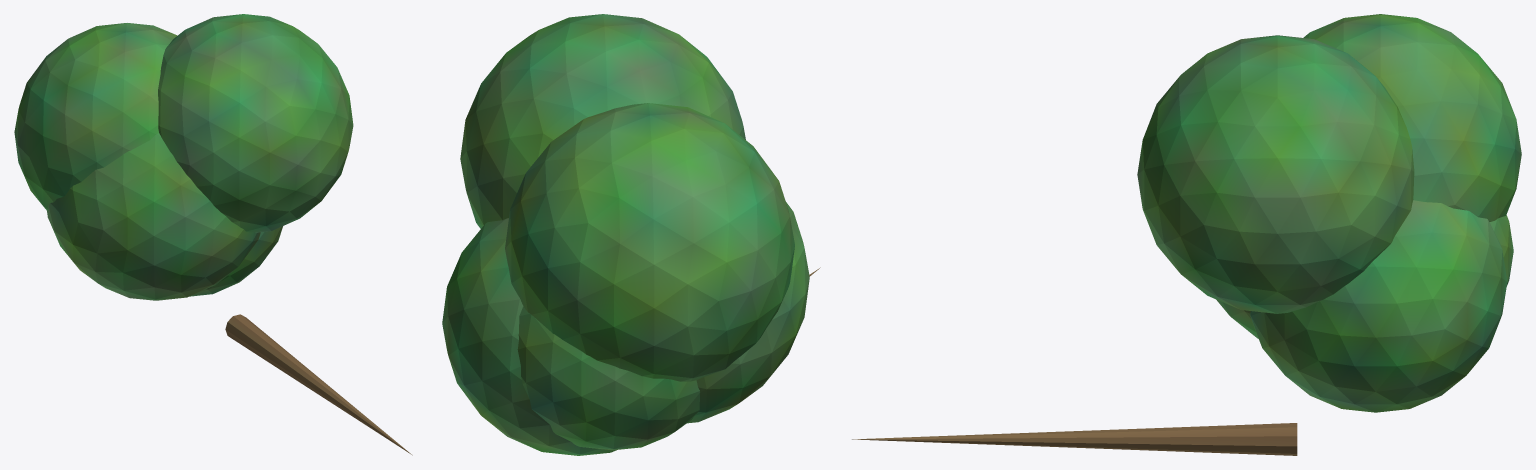
The model's file is tree_3.glb.
3 views of the same model, side by side, from view 1: azimuth 30°, elevation 25°; view 2: azimuth 150°, elevation 25°; view 3: azimuth 270°, elevation 25° (orthographic). The views are drawn at different scales.
Visible parts, largest first — view 1: world; view 2: world; view 3: world.
Part boxes in pixels (box(x1,y1,x2,y2)): world: box(14, 14, 412, 455); world: box(442, 14, 820, 455); world: box(852, 14, 1521, 455).
Size of the model in its own units: 4.79 by 5.47 by 8.21.
